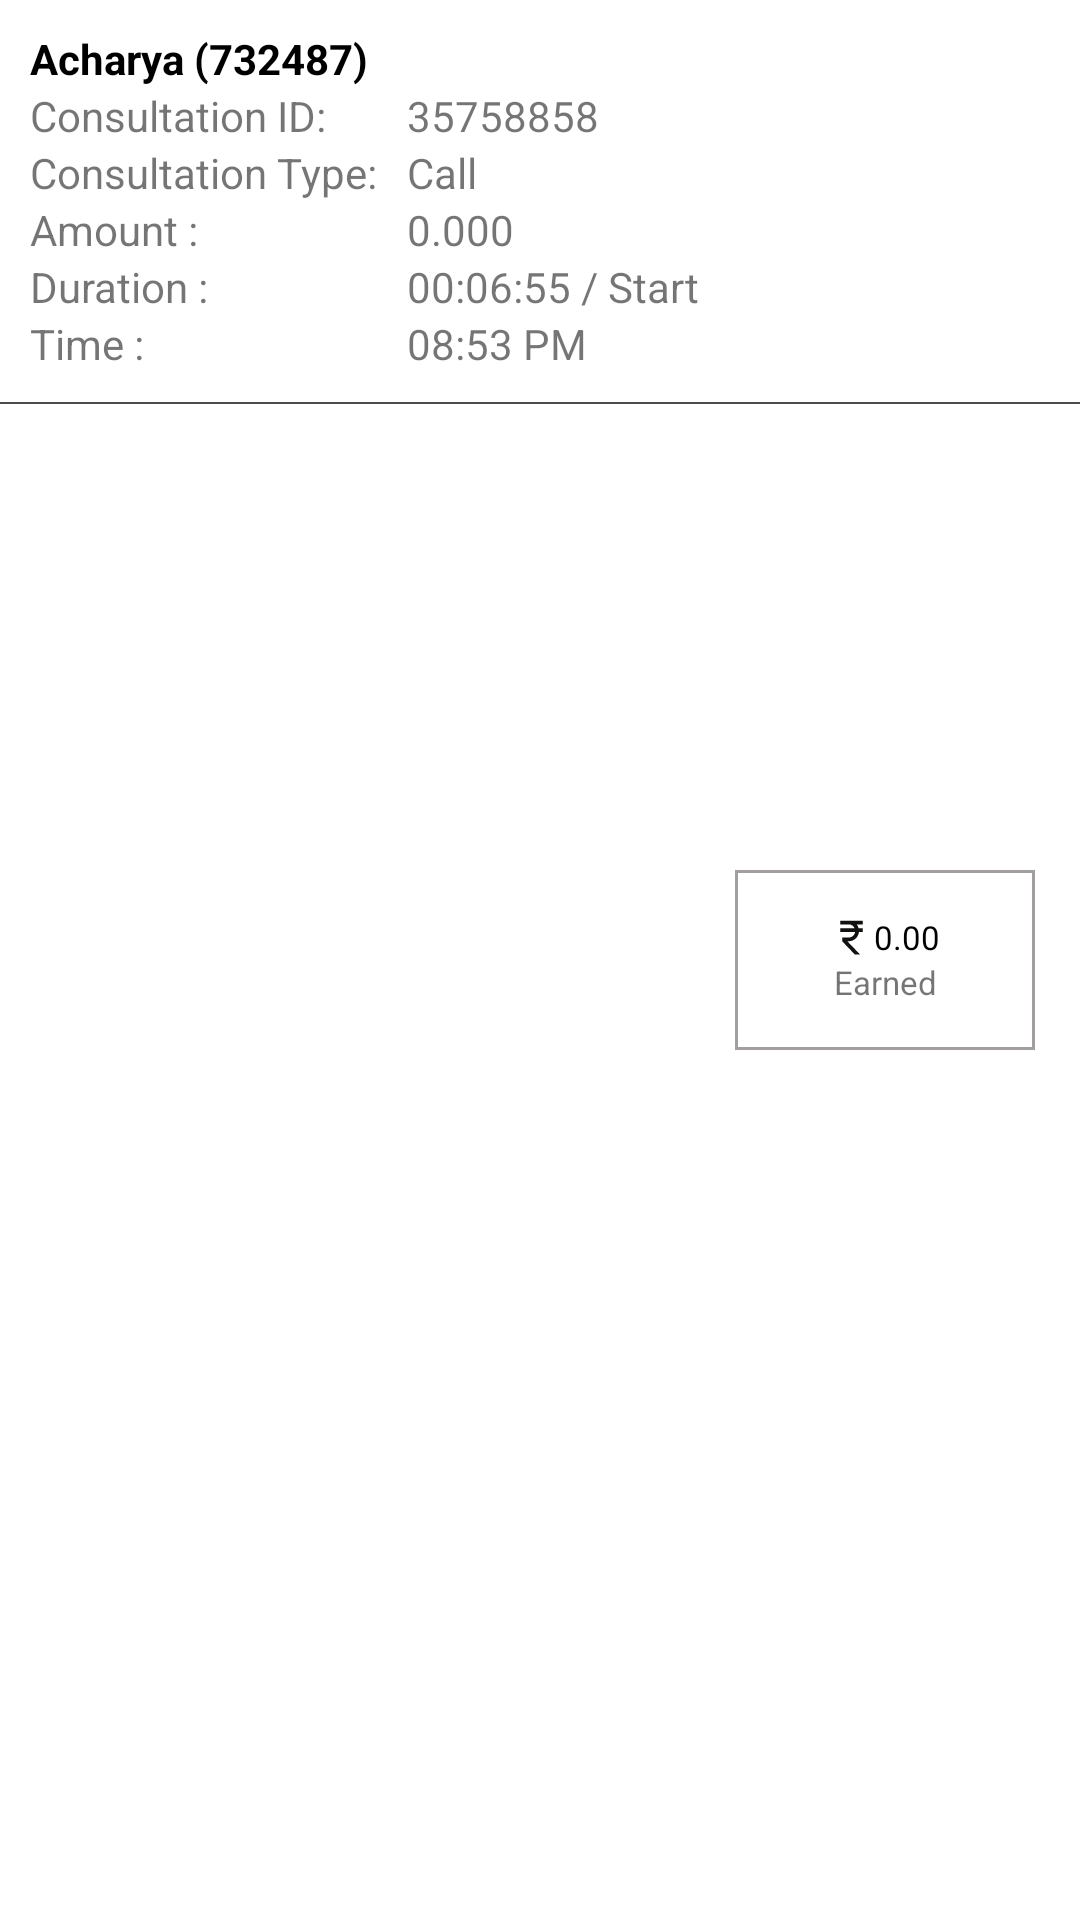

Named icons in this screenshot (1080×1920) and their centers, (x=x, y=y):
currency rupee: (x=851, y=937)
